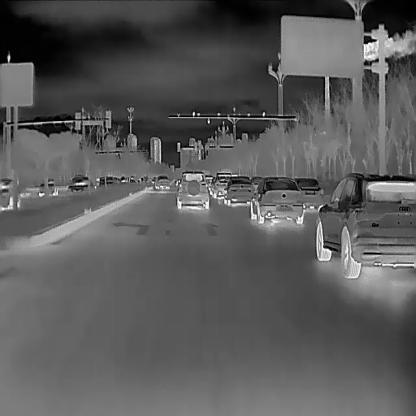car: (314, 171, 415, 278), (250, 174, 306, 223), (175, 170, 210, 210), (293, 175, 324, 209), (223, 175, 257, 206), (0, 175, 19, 209), (210, 173, 234, 198), (65, 174, 94, 192), (37, 176, 58, 196), (153, 173, 170, 189)
